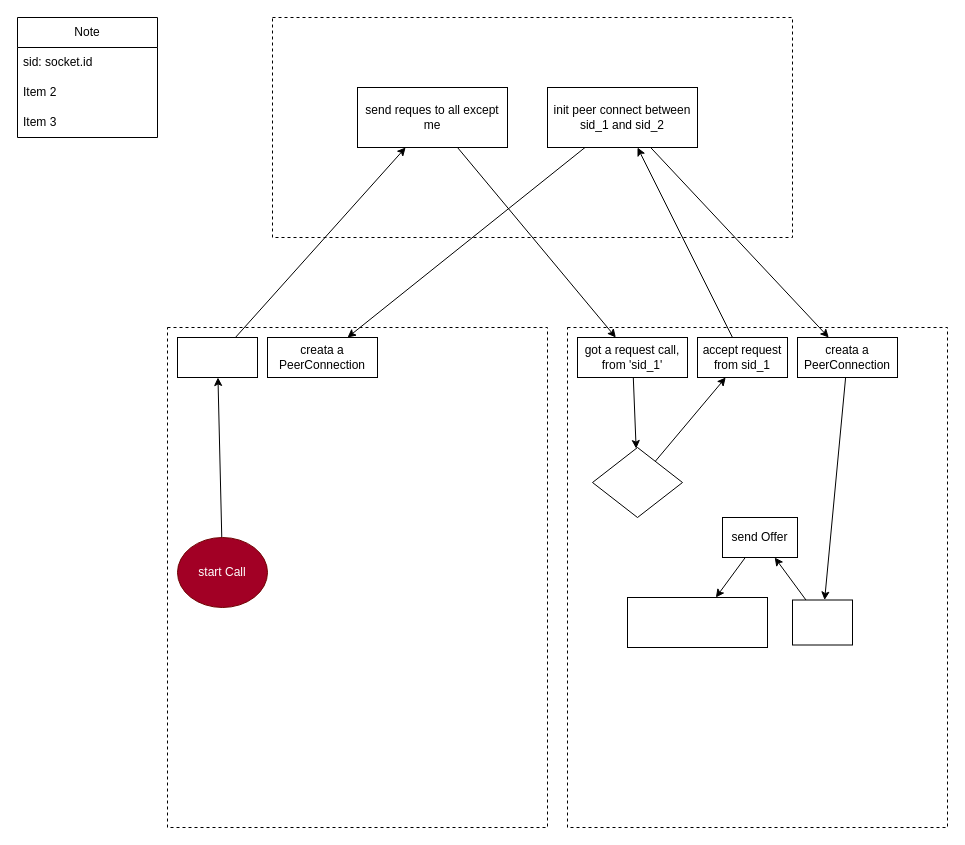
Image size: 965x845. Some labels were removed from this diagram. The shapes that lost their labels are listed below. From the top down, each one's centre as x and y in pixels, then its label:
(x=217, y=357): request call
(x=637, y=482): is user in metting
(x=697, y=622): send 'offer' to a sid_A from sid_B
(x=822, y=622): create Offer
